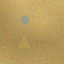person: (20, 14, 28, 23)
structure: (17, 34, 31, 48)
